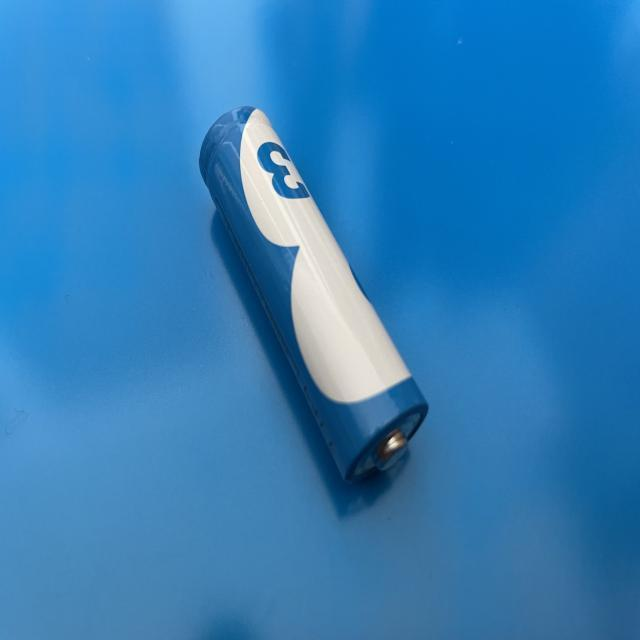Hazard: (196, 105, 434, 483)
